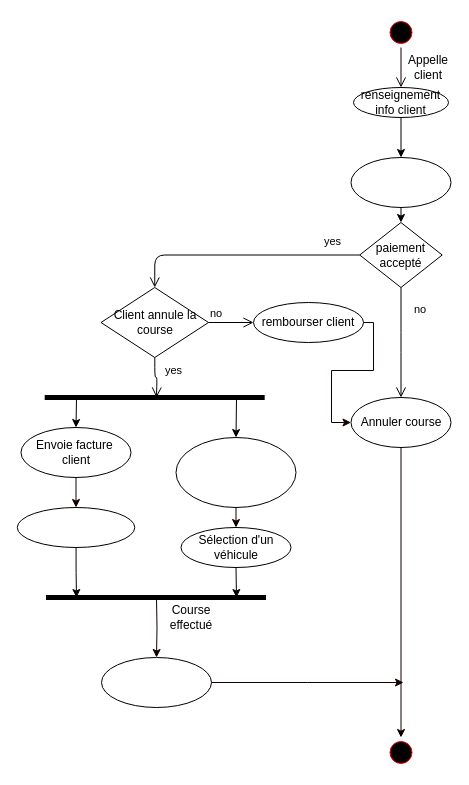
Some shapes in this 469 by 785 pixel diagram are drawn without their labels. The shapes that lost their labels are listed below. From the top down, each one's centre as x and y in pixels, then its label:
At point 400,182: "renseignement info paiement client".
At point 235,472: "Envoie info course au chauffeur".
At point 75,527: "numéro transaction au client".
At point 156,682: "Chauffeur rentre course effectué".
